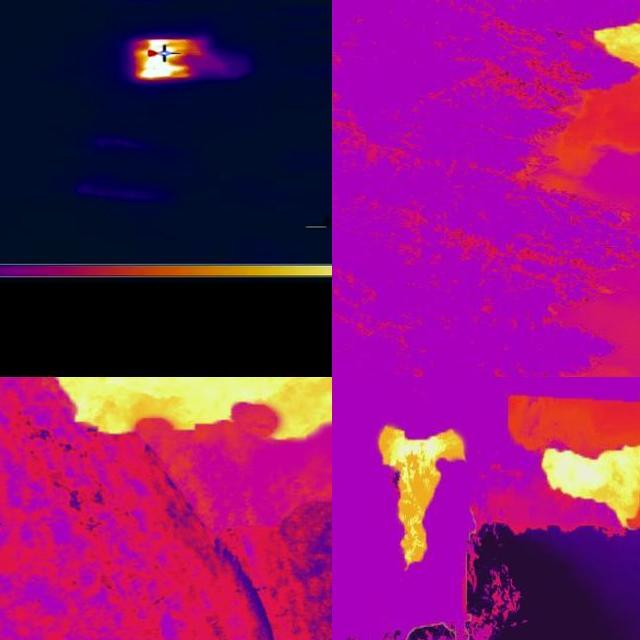fire: (53, 378, 333, 443), (375, 420, 468, 575), (538, 447, 640, 538), (129, 38, 203, 81), (589, 18, 640, 71)
